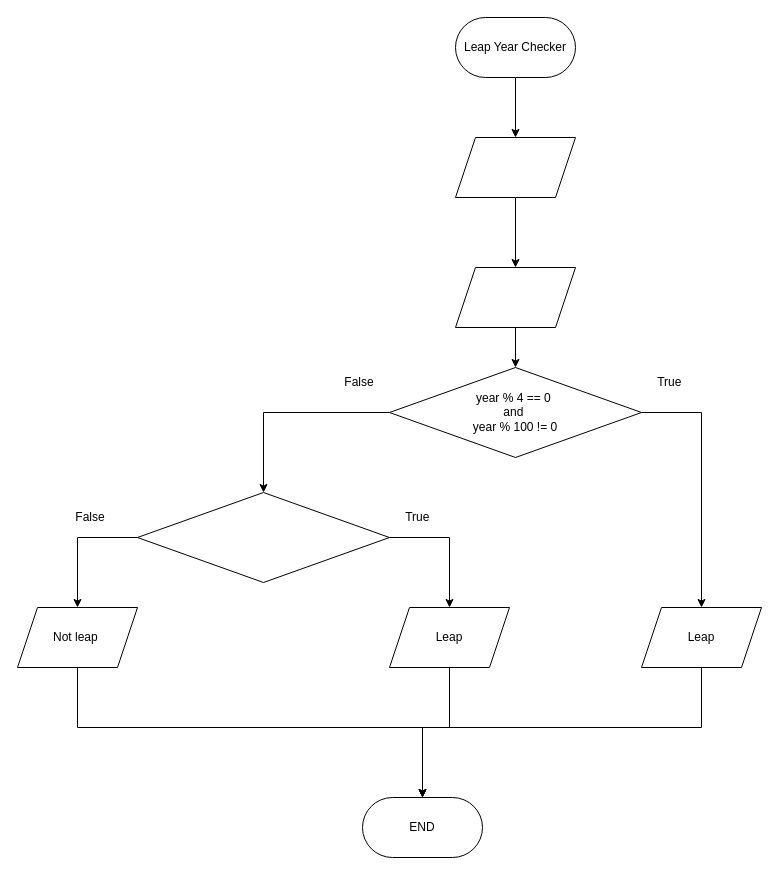
This 779x875 diagram has some shape labels left out. Here are the shapes that lost their labels. From the top down, the box of each, then its label:
(454, 136, 576, 198): Enter year >>>
(454, 266, 576, 328): year
(136, 492, 390, 582): year % 400 == 0
